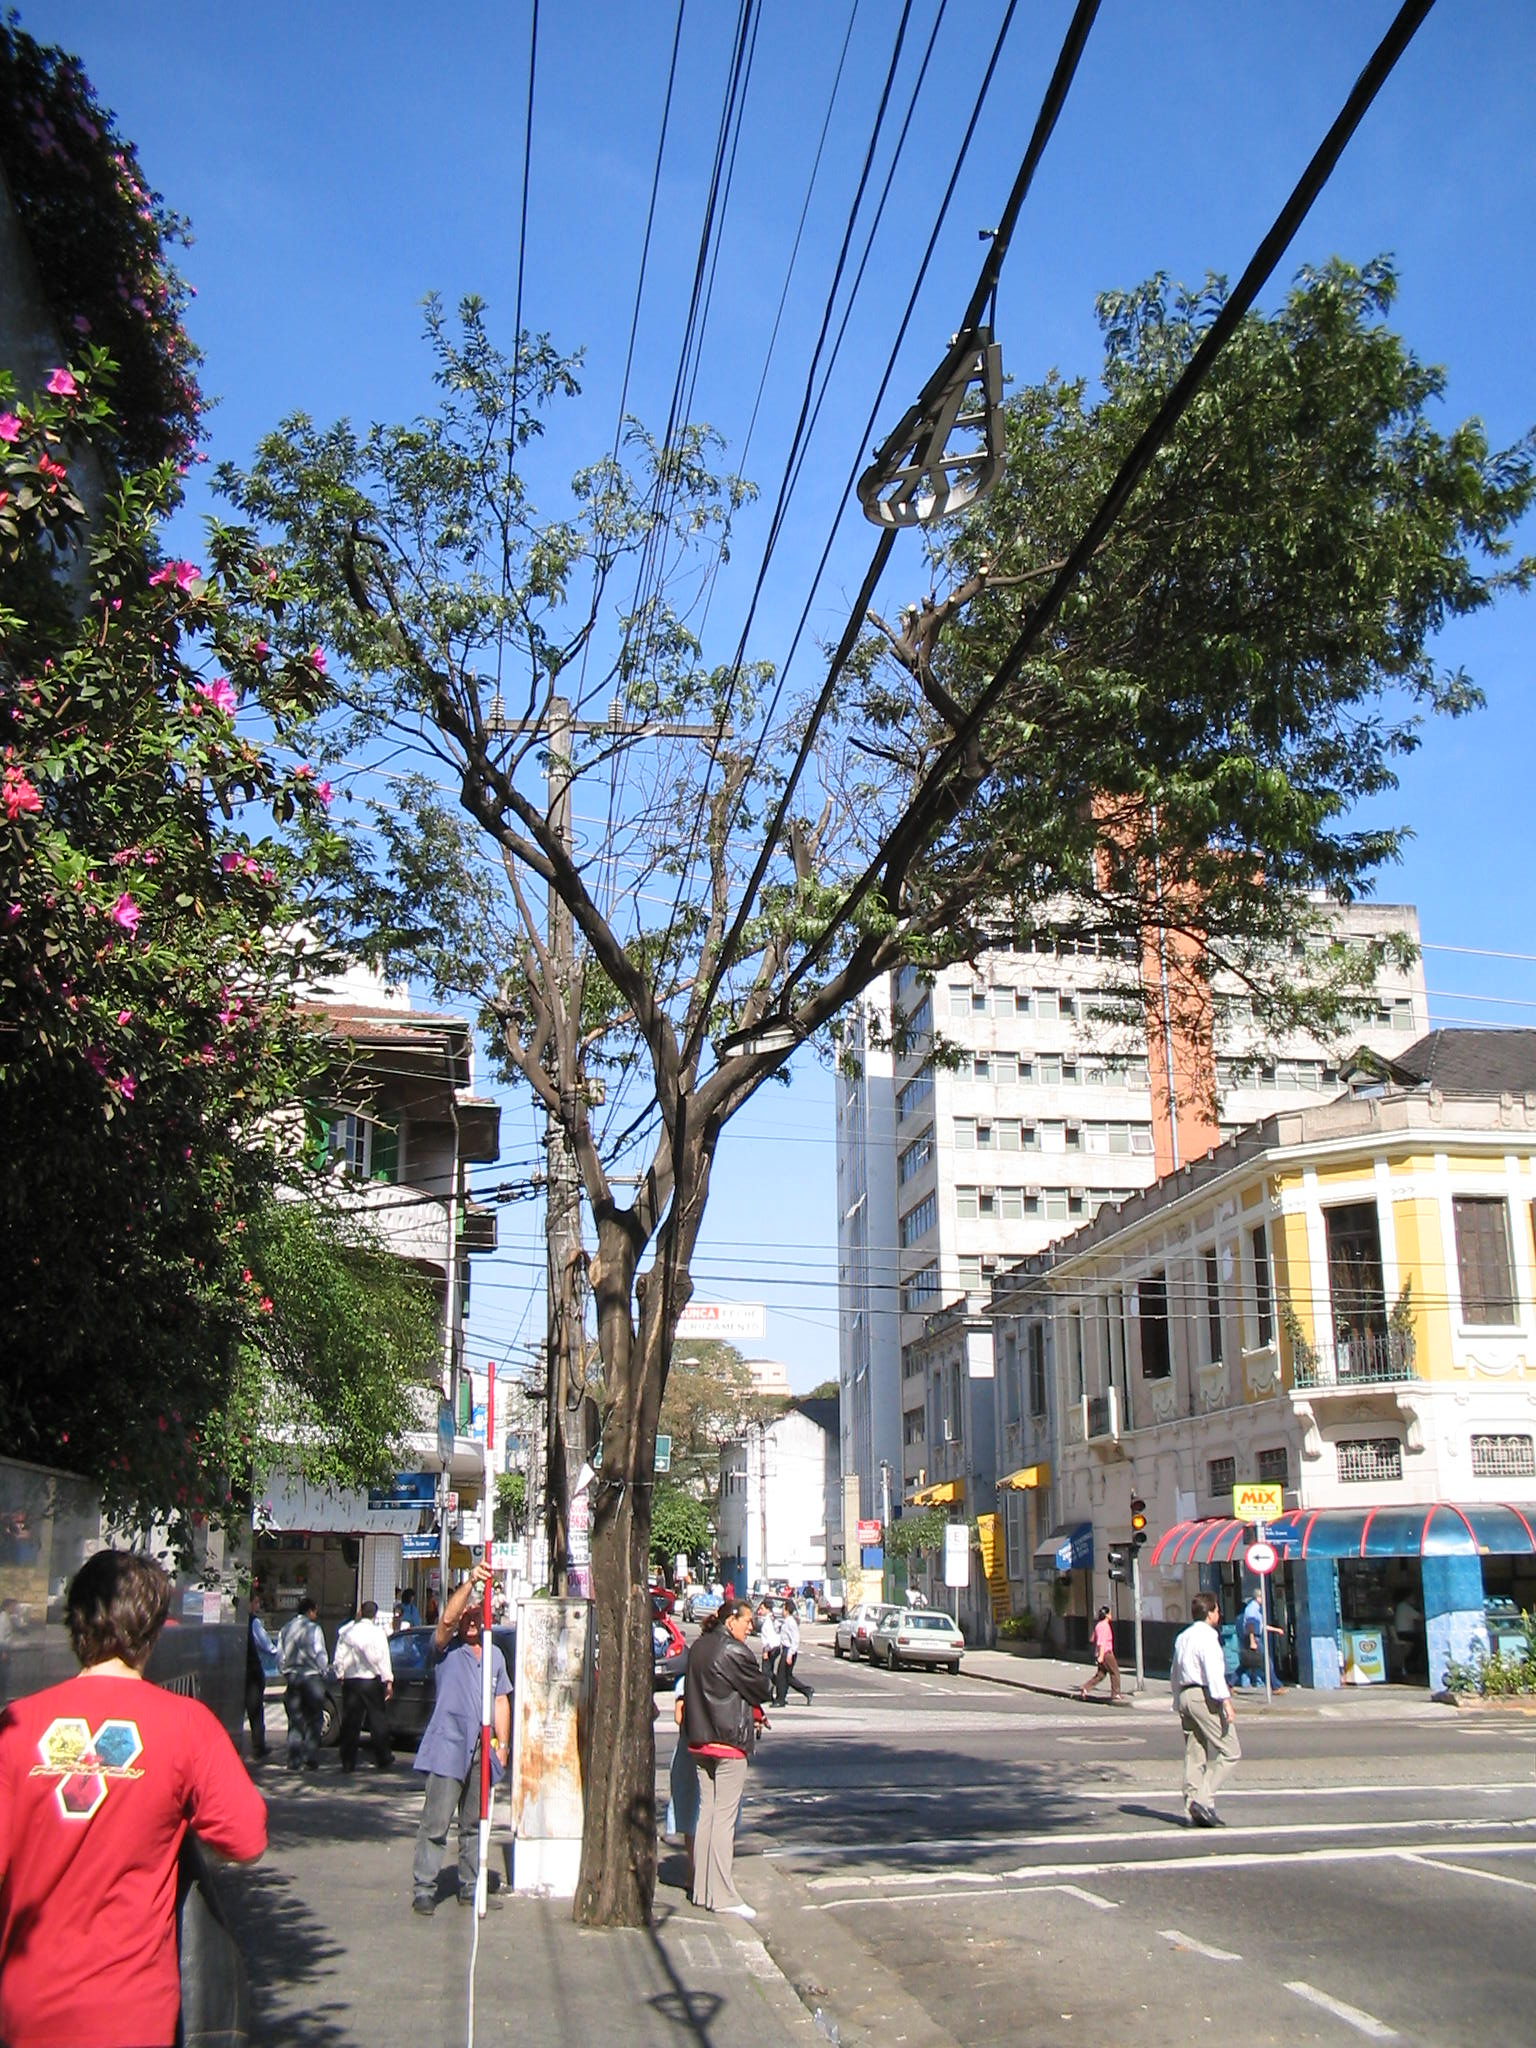crown: (207, 248, 1505, 1085)
stem: (550, 1432, 700, 1925)
stick: (461, 1361, 511, 1913)
tree: (200, 248, 1509, 1930)
